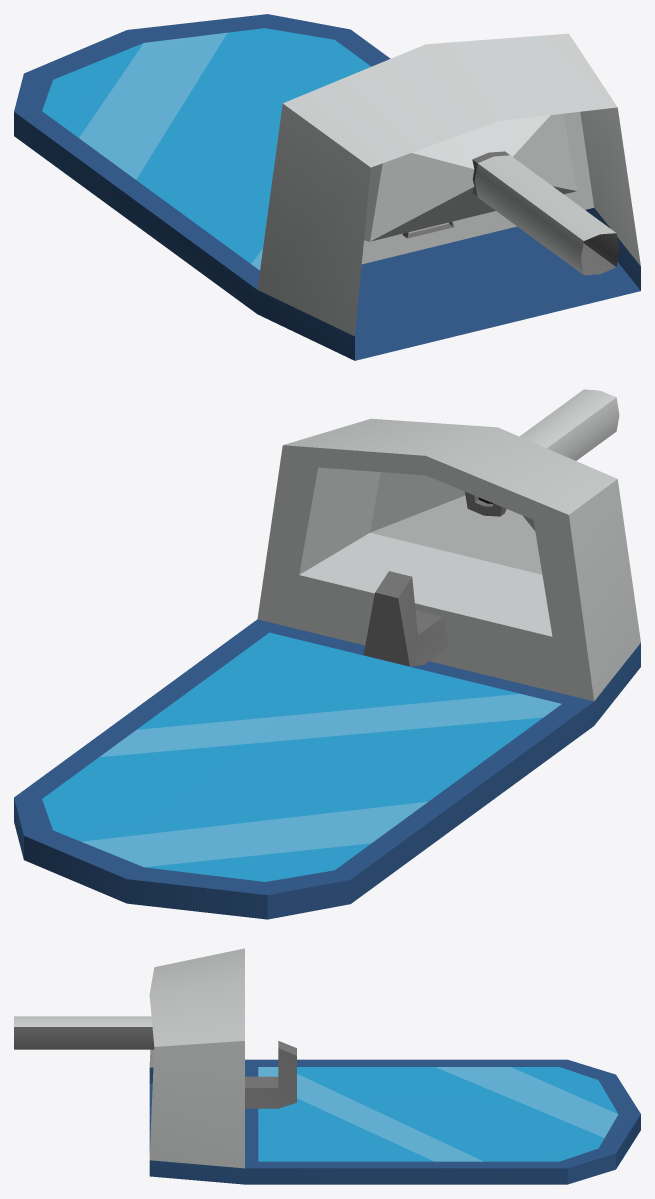
Rendered from Sink 01.FBX.
3 views of the same model, one above another, from view 1: azimuth 30°, elevation 25°; view 2: azimuth 150°, elevation 25°; view 3: azimuth 270°, elevation 25° (orthographic). The views are drawn at different scales.
Visible parts, largest first — view 1: Sink 01; view 2: Sink 01; view 3: Sink 01.
Boxes of the visible parts, bbox=[...] form: Sink 01: bbox=[14, 14, 640, 360]; Sink 01: bbox=[14, 389, 640, 919]; Sink 01: bbox=[14, 948, 640, 1184].
Bounding box in the file's own units: 80.77 × 52.48 × 197.
Materials: 1 (1 with a texture image).
